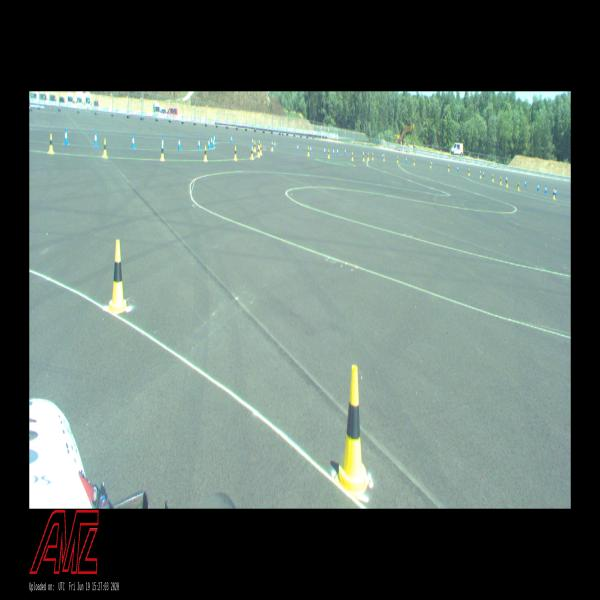blue_cone: (64, 128, 69, 146), (94, 130, 98, 148), (132, 134, 136, 149), (160, 135, 164, 150), (197, 138, 201, 150), (178, 137, 181, 151), (213, 136, 215, 149), (230, 135, 233, 143), (208, 138, 210, 149), (537, 182, 539, 192), (555, 186, 557, 196), (545, 185, 547, 195), (210, 136, 212, 146), (214, 134, 216, 144), (274, 140, 276, 150), (310, 145, 312, 154), (297, 143, 299, 152), (324, 146, 326, 155), (344, 147, 346, 156), (252, 137, 254, 145), (405, 156, 407, 164), (457, 164, 459, 172), (482, 170, 484, 178), (524, 179, 526, 187), (505, 174, 507, 182), (332, 148, 334, 155), (337, 148, 338, 156), (382, 152, 383, 160), (432, 160, 432, 168)
yellow_cone: (335, 365, 370, 497), (108, 240, 128, 314), (48, 133, 54, 154), (102, 139, 108, 157), (160, 144, 165, 162), (204, 145, 208, 162), (234, 145, 238, 160), (552, 188, 556, 199), (251, 146, 254, 160), (270, 142, 274, 152), (257, 145, 260, 157), (307, 146, 310, 157), (517, 181, 520, 191), (362, 153, 365, 161), (260, 143, 262, 155), (254, 141, 256, 152), (479, 171, 482, 178), (328, 149, 330, 159), (258, 140, 260, 150), (492, 173, 494, 182), (352, 152, 354, 161), (500, 176, 502, 185), (506, 178, 508, 187), (448, 164, 450, 172), (372, 152, 374, 160), (468, 168, 470, 176), (367, 153, 369, 161), (413, 158, 415, 166), (383, 154, 385, 161), (397, 156, 398, 163), (430, 161, 431, 168)
